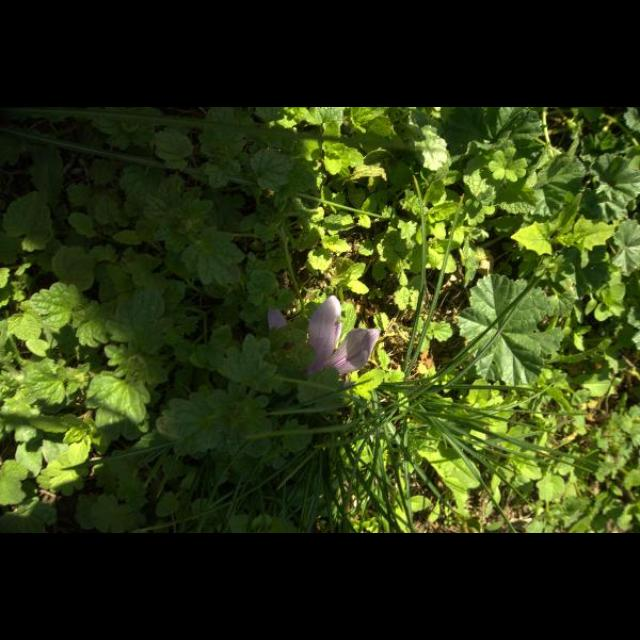overlap: (266, 296, 382, 384)
